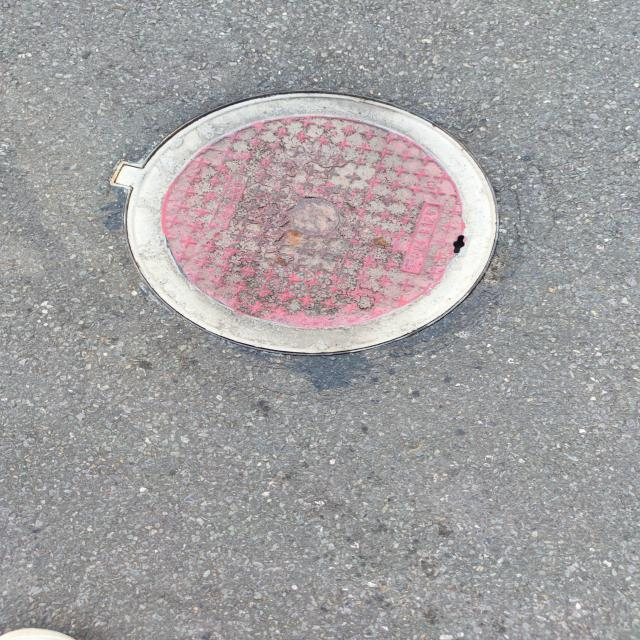Good: (106, 88, 508, 362)
